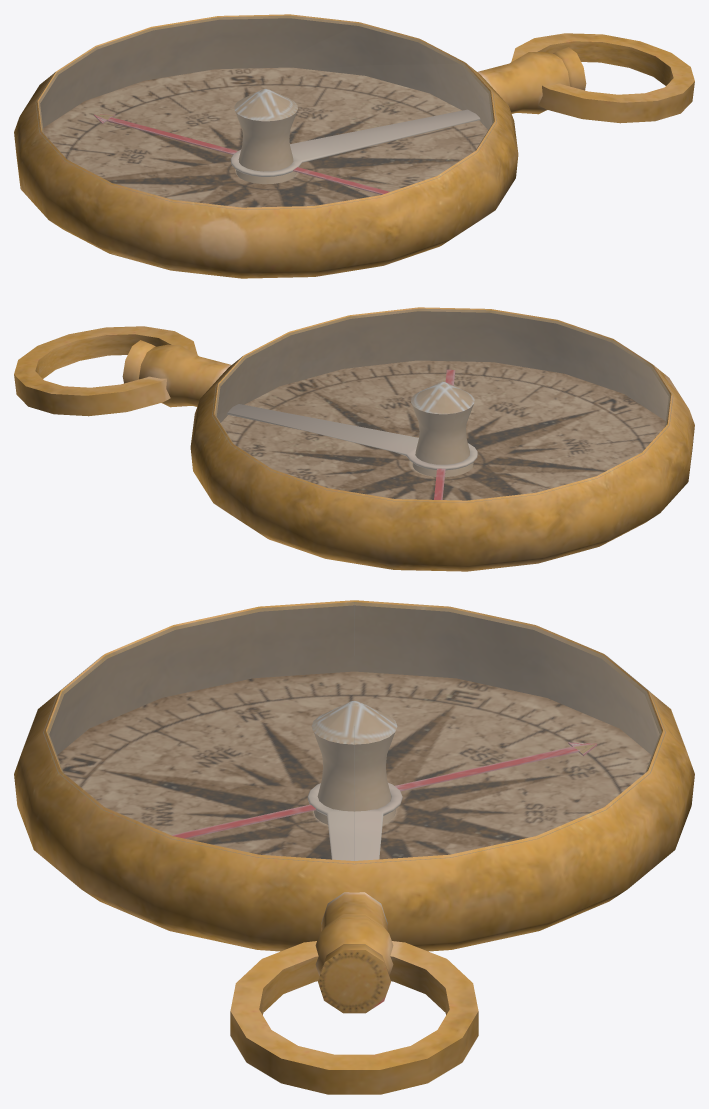
File: Puzzle 1 Compass.fbx
The picture shows the model from 3 angles, top to bottom: view 1: azimuth 30°, elevation 25°; view 2: azimuth 150°, elevation 25°; view 3: azimuth 270°, elevation 25°; orthographic projection. The views are drawn at different scales.
Visible parts, largest first — view 1: Puzzle 1 Compass, Puzzle 1 Compass Glass, Puzzle 1 Compass Needle, Puzzle 1 Compass Needle2; view 2: Puzzle 1 Compass, Puzzle 1 Compass Glass, Puzzle 1 Compass Needle, Puzzle 1 Compass Needle2; view 3: Puzzle 1 Compass, Puzzle 1 Compass Glass, Puzzle 1 Compass Needle, Puzzle 1 Compass Needle2.
Boxes of the visible parts, x1,y1,x2,y2 form: Puzzle 1 Compass: (14, 14, 694, 278); Puzzle 1 Compass Glass: (35, 15, 496, 209); Puzzle 1 Compass Needle: (230, 109, 480, 176); Puzzle 1 Compass Needle2: (94, 114, 389, 194); Puzzle 1 Compass: (14, 307, 694, 571); Puzzle 1 Compass Glass: (212, 308, 673, 502); Puzzle 1 Compass Needle: (227, 404, 477, 470); Puzzle 1 Compass Needle2: (434, 369, 455, 499); Puzzle 1 Compass: (14, 600, 694, 1094); Puzzle 1 Compass Glass: (43, 602, 665, 864); Puzzle 1 Compass Needle: (307, 783, 402, 860); Puzzle 1 Compass Needle2: (172, 742, 597, 838).
Size of the model in its own units: 56.46 by 9.23 by 39.08.
Materials: 2 (1 with a texture image).
